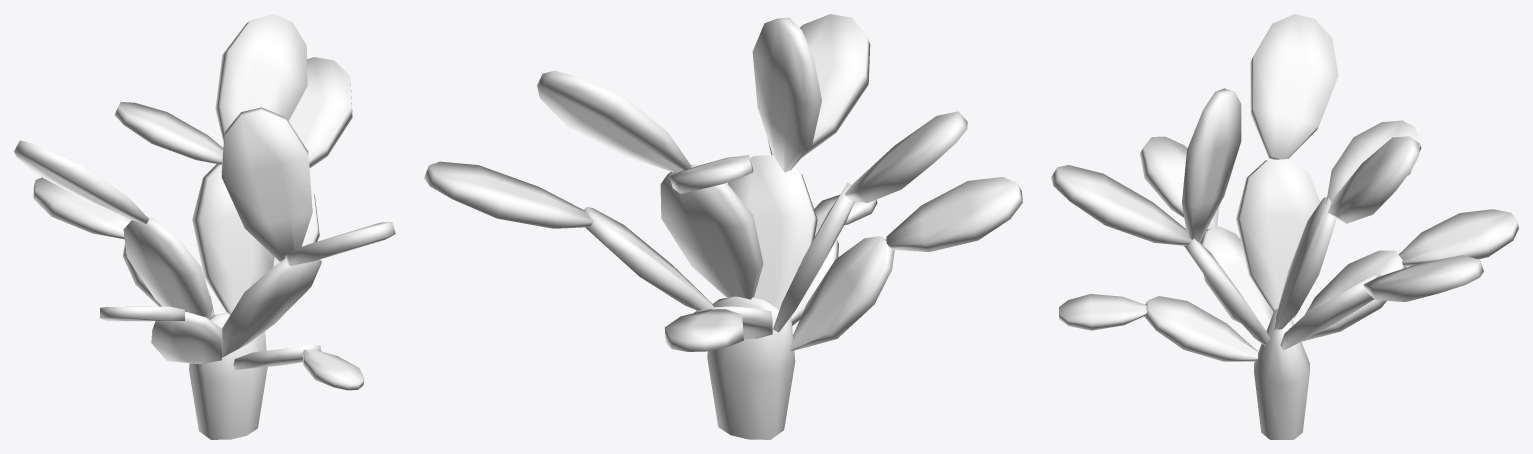
File: DesertPear.glb
3 renders of one model, left to right at view 1: azimuth 30°, elevation 25°; view 2: azimuth 150°, elevation 25°; view 3: azimuth 270°, elevation 25°, orthographic. The views are drawn at different scales.
Visible parts, largest first — view 1: DesertPear01; view 2: DesertPear01; view 3: DesertPear01.
Part boxes in pixels (<box>): DesertPear01: <box>14,14,395,439</box>; DesertPear01: <box>424,14,1022,439</box>; DesertPear01: <box>1051,14,1518,439</box>.
Size of the model in its own units: 1.62 by 1.33 by 1.67.
Materials: 1 (1 with a texture image).
